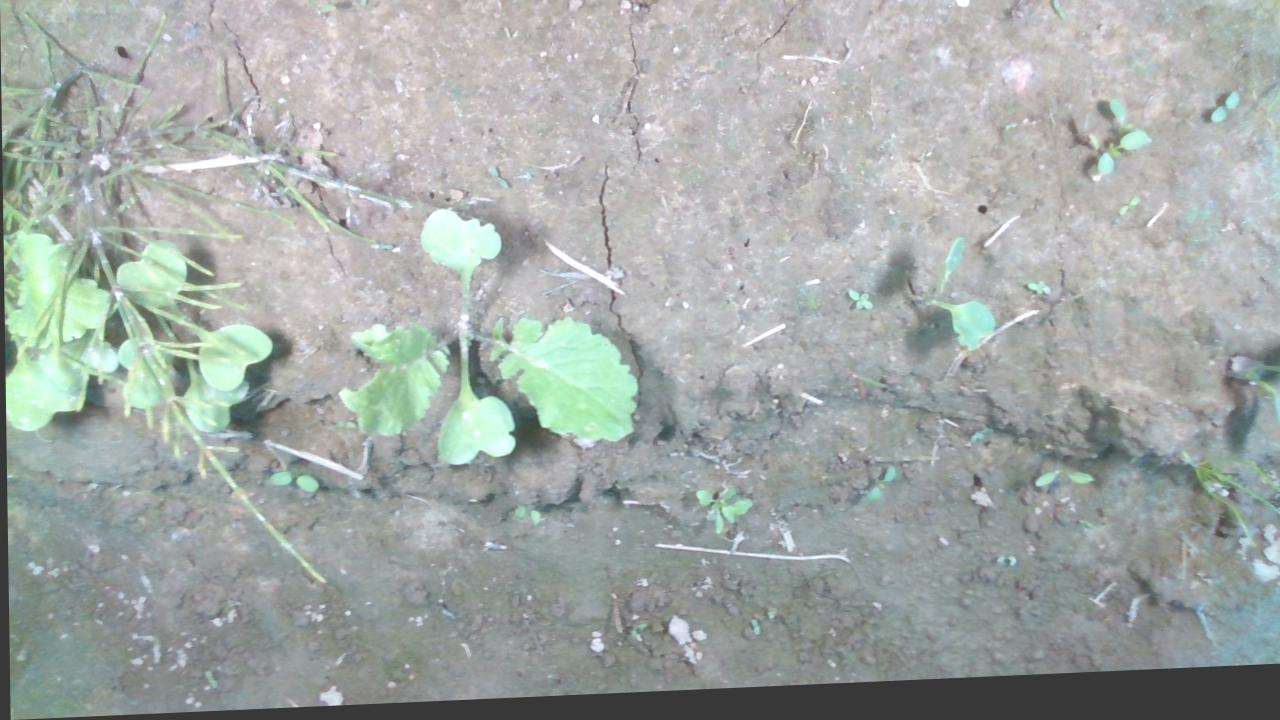weed: (263, 465, 333, 501), (497, 502, 556, 538), (1208, 93, 1252, 137), (845, 290, 890, 325), (1023, 283, 1064, 311)
